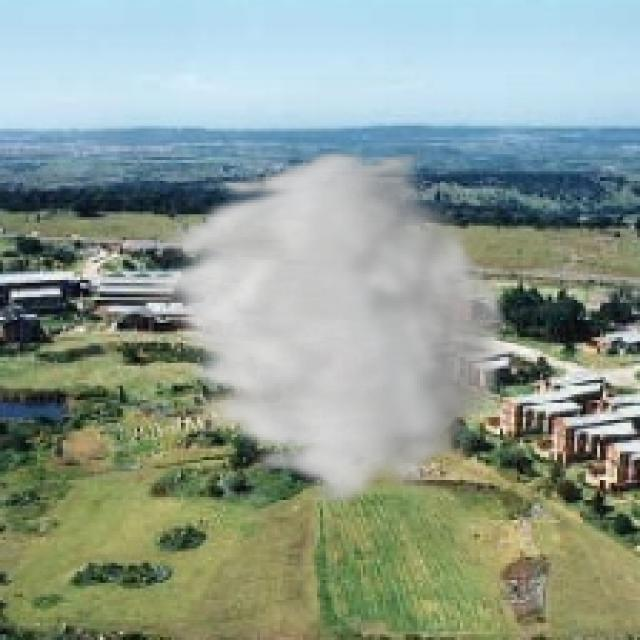smoke: (132, 146, 514, 511)
